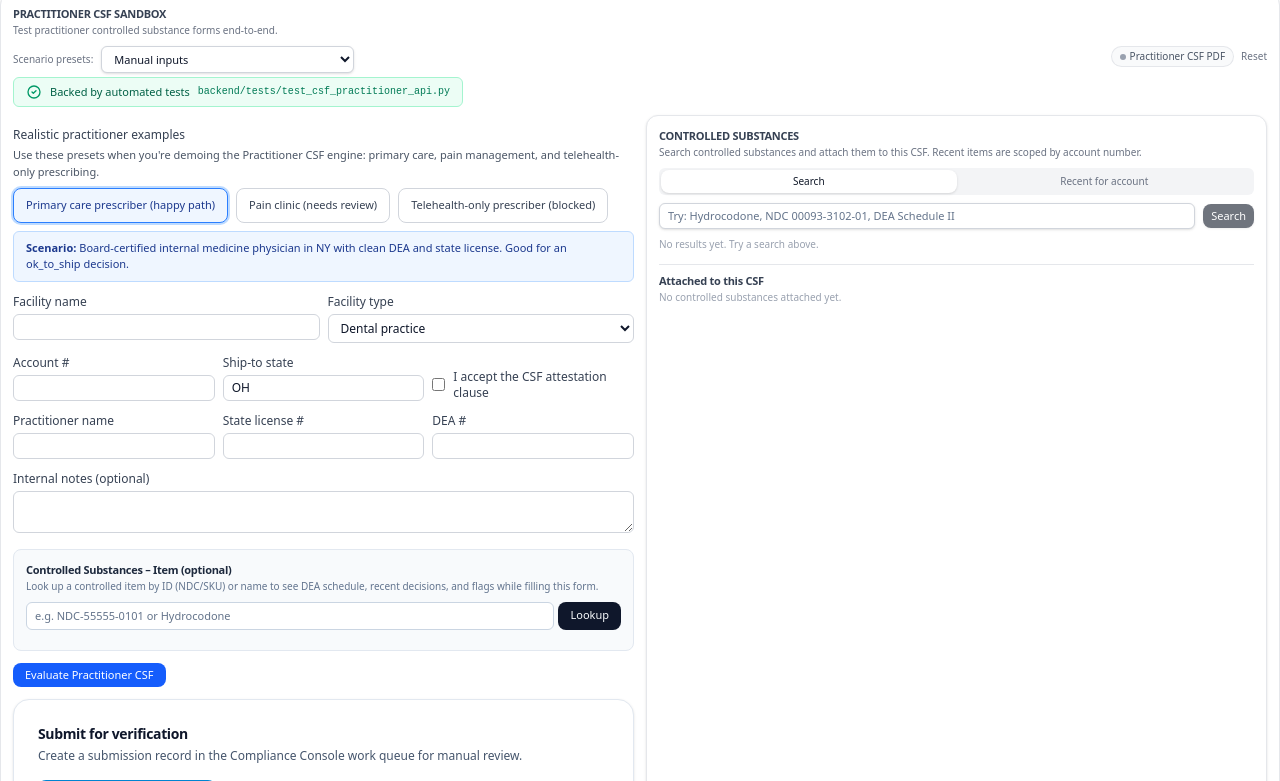
Test case: PractitionerCsfSandbox › surfaces verification failures to the user
Click the button "Evaluate Practitioner CSF": x=89, y=675 [13,662,166,687]
(page scrolled)
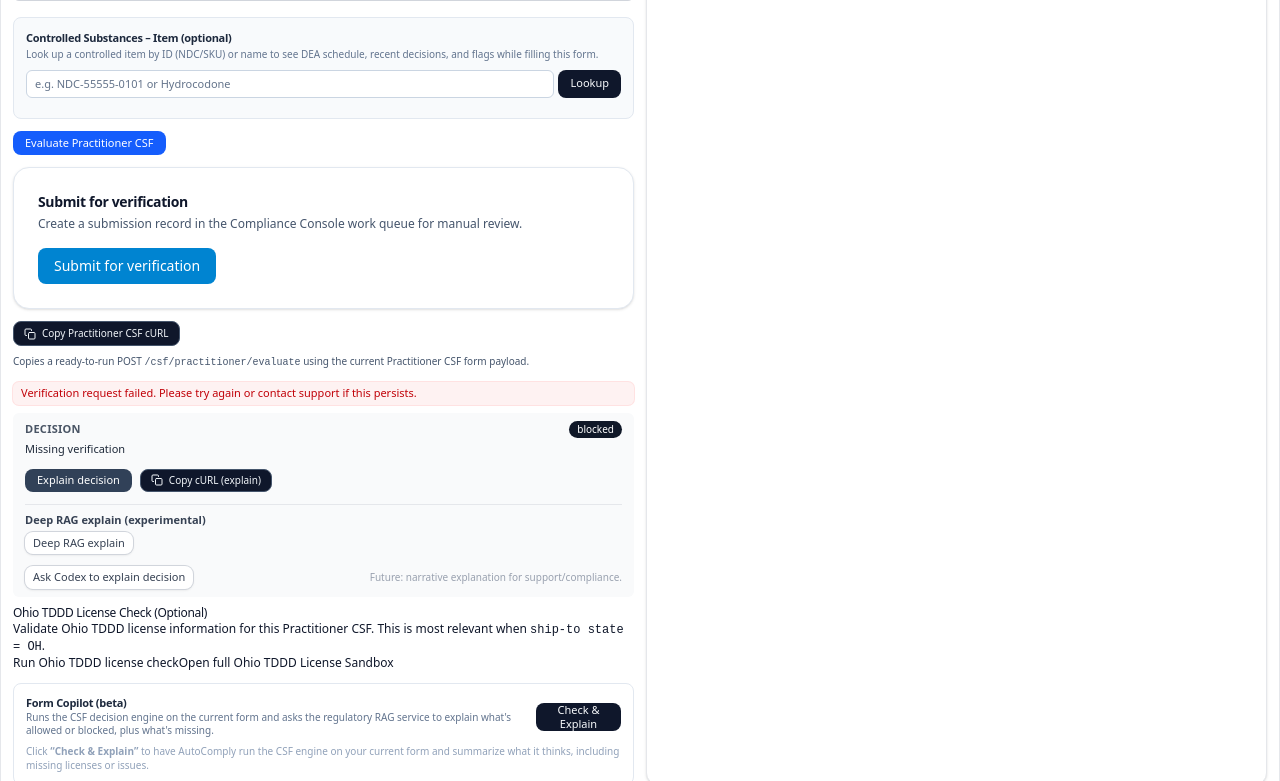
Expected: the text "Verification request failed. Please try again or contact support if this persists." is shown, [21,385,417,400]
